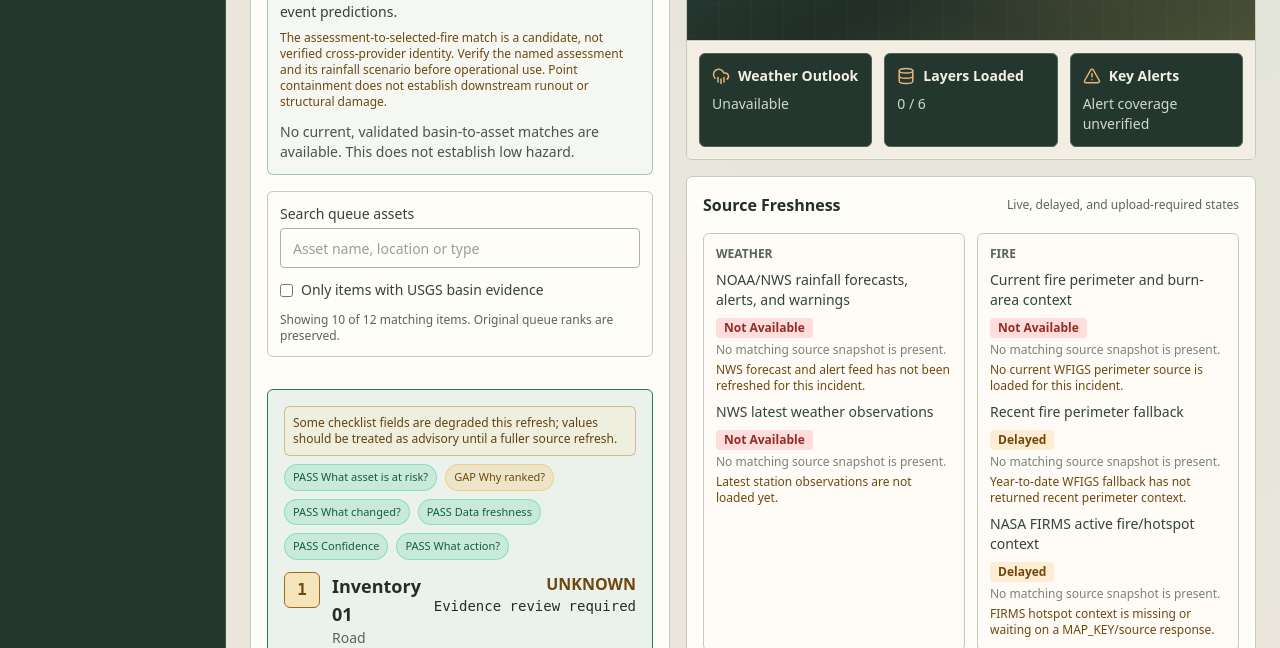
FA10 displayed revision and uncertain command journey › combines asset search with the evidence filter and hides unrelated decision controls
(page scrolled)
Step 1. Type "inventory 12" into the search field labelled "Search queue assets" → {"x": 460, "y": 248}, box [280, 228, 640, 268]
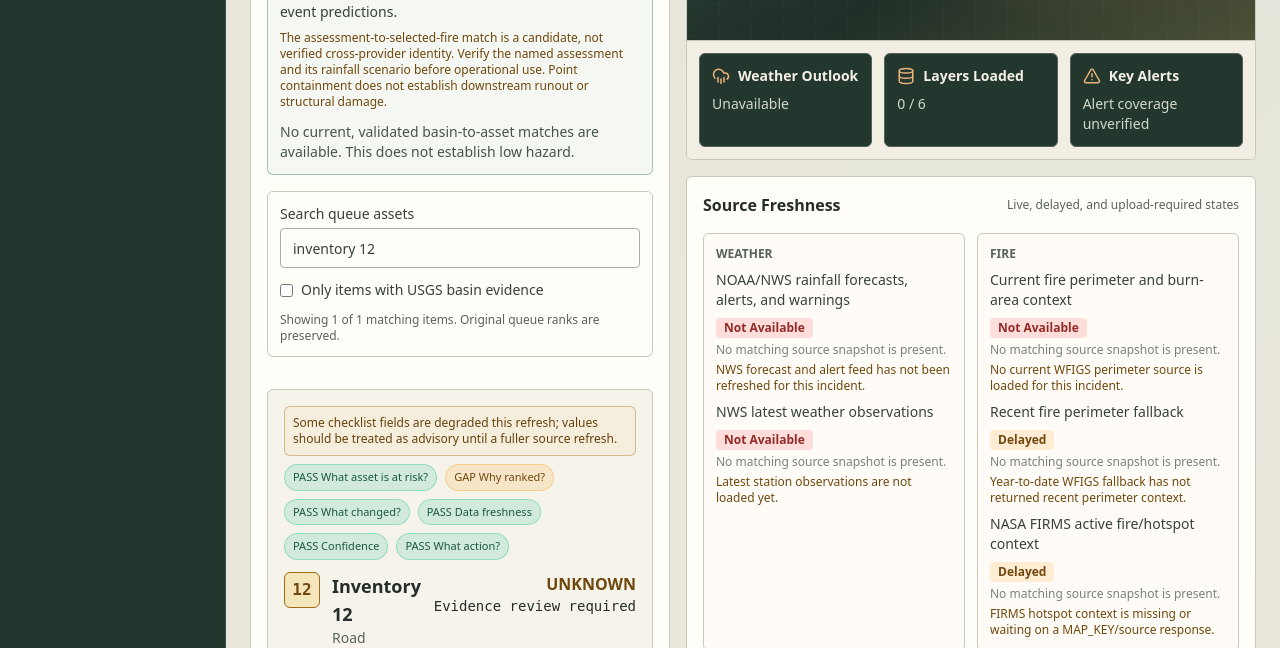
Expected: the heading "Inventory 12" is shown, [332, 572, 422, 628]
Step 2. Click the checkbox labelled "Only items with USGS basin evidence" → {"x": 286, "y": 290}, box [280, 284, 293, 297]
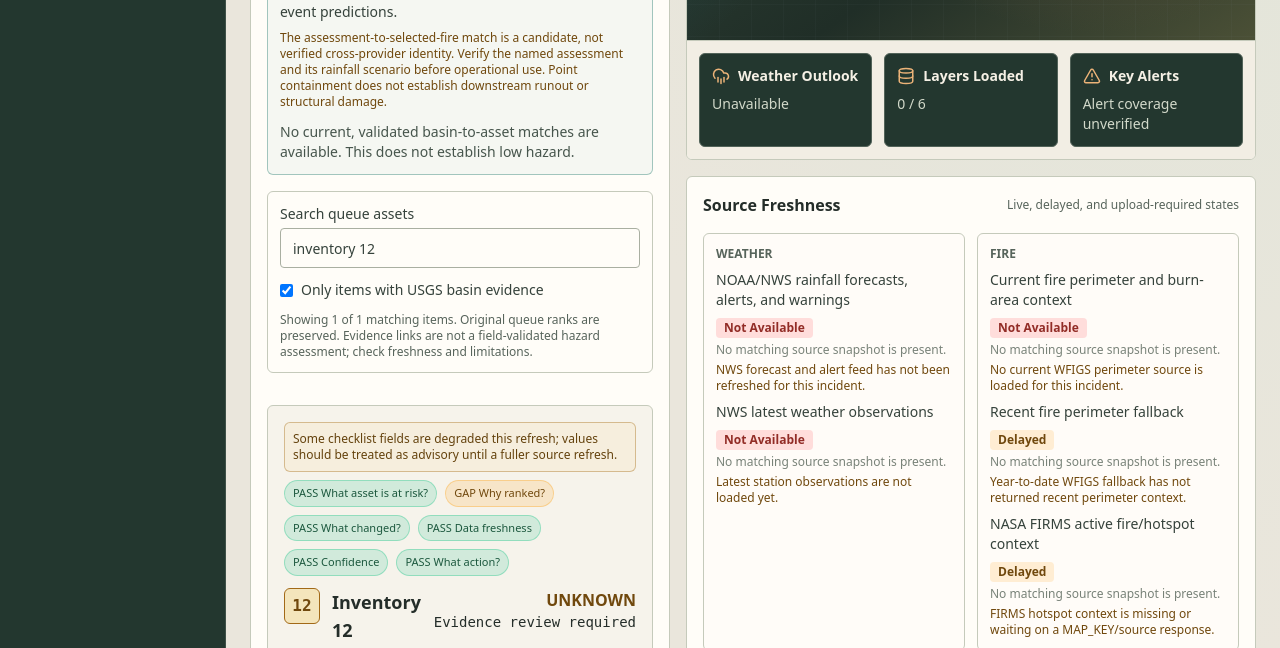
Step 3. Replace the text in the search field labelled "Search queue assets" with "does not exist" → {"x": 460, "y": 248}, box [280, 228, 640, 268]
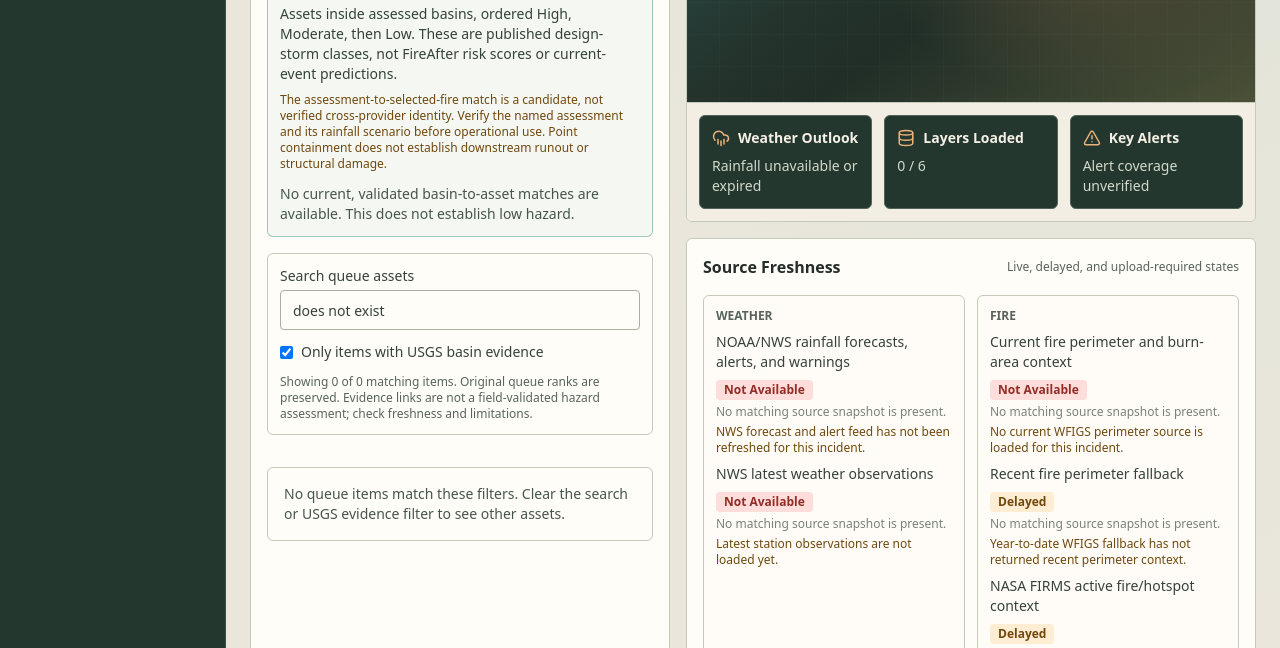
Expected: the text "No queue items match these filters" is shown, [284, 484, 628, 523]
